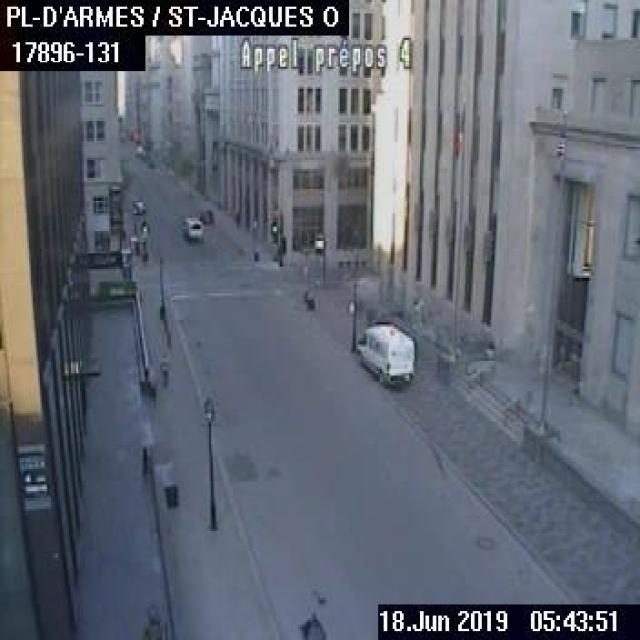vehicle: (355, 320, 413, 385), (178, 213, 202, 240), (198, 208, 213, 223)
